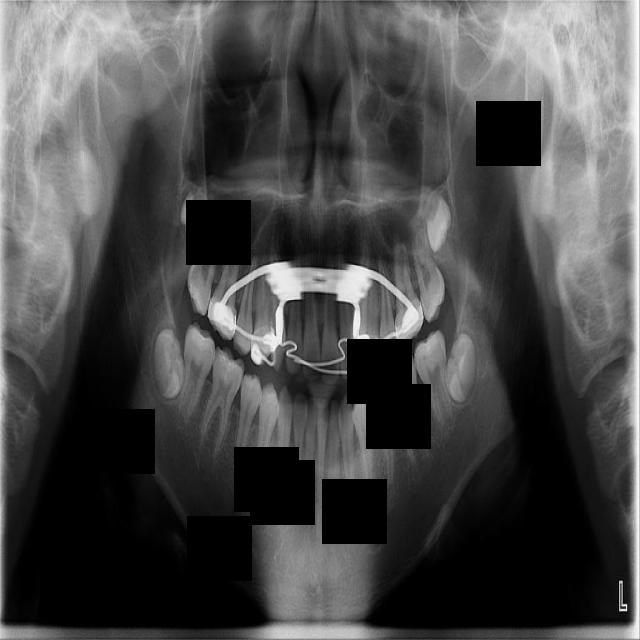3M ESPE Implant: (177, 186, 207, 252)
73: (600, 588, 613, 598)
BioHorizons Implant: (407, 219, 451, 322)
BioLife Implant: (425, 194, 452, 253)
Biomet 3i Implant: (443, 332, 475, 402)
Blue Sky Bio Implant: (412, 328, 454, 428)
Caries: (180, 212, 226, 316)
Implant: (174, 321, 220, 423)
Keystone Dental Implant: (152, 329, 187, 400)
